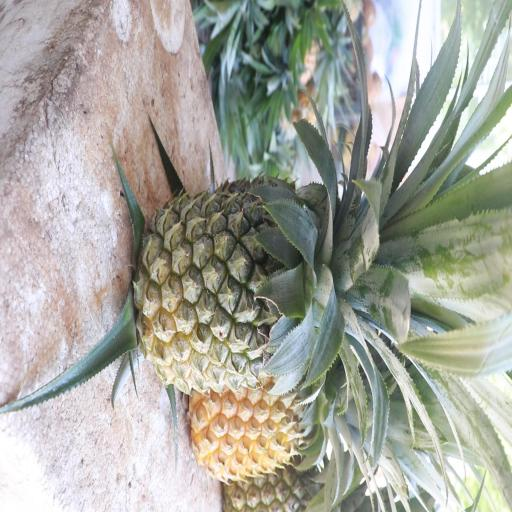------------------------------: (144, 188, 353, 391)
Pineapple - v8 v1: (188, 368, 328, 478)
